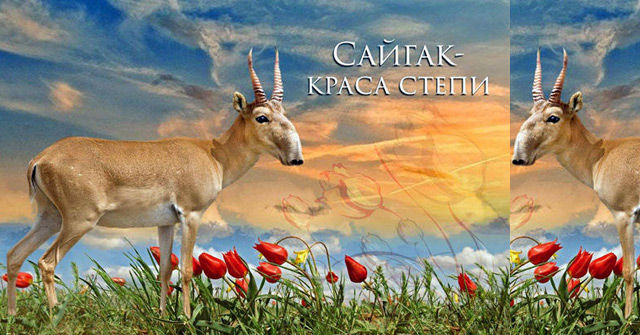saiga: (7, 49, 302, 326), (512, 44, 640, 329)
